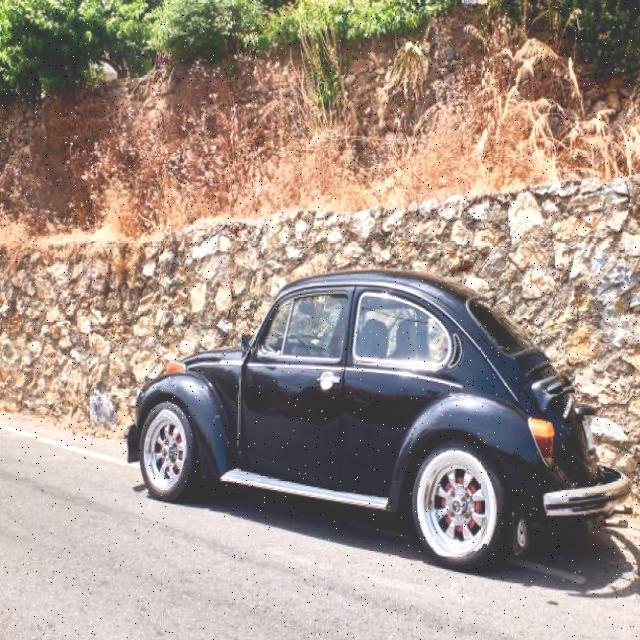car: (137, 268, 622, 556)
